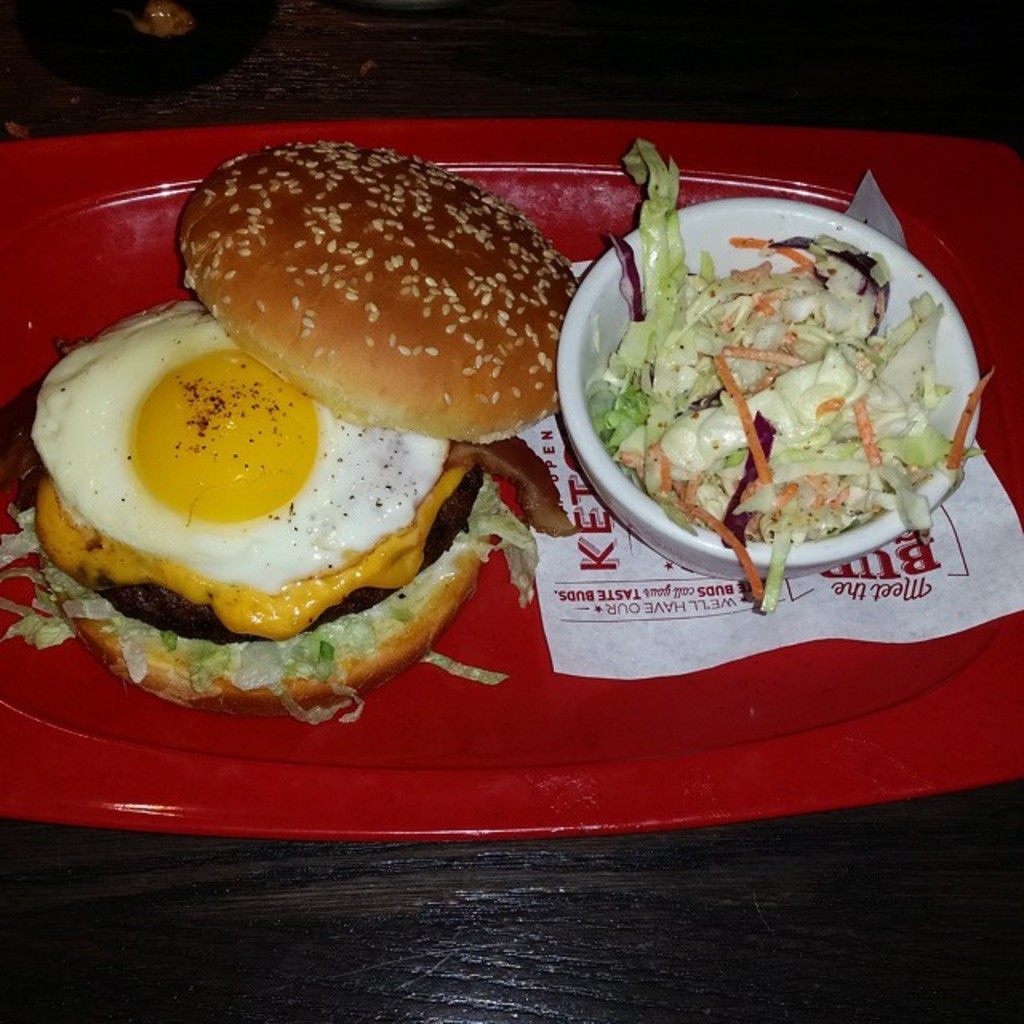Hamburger: (0, 139, 574, 732)
